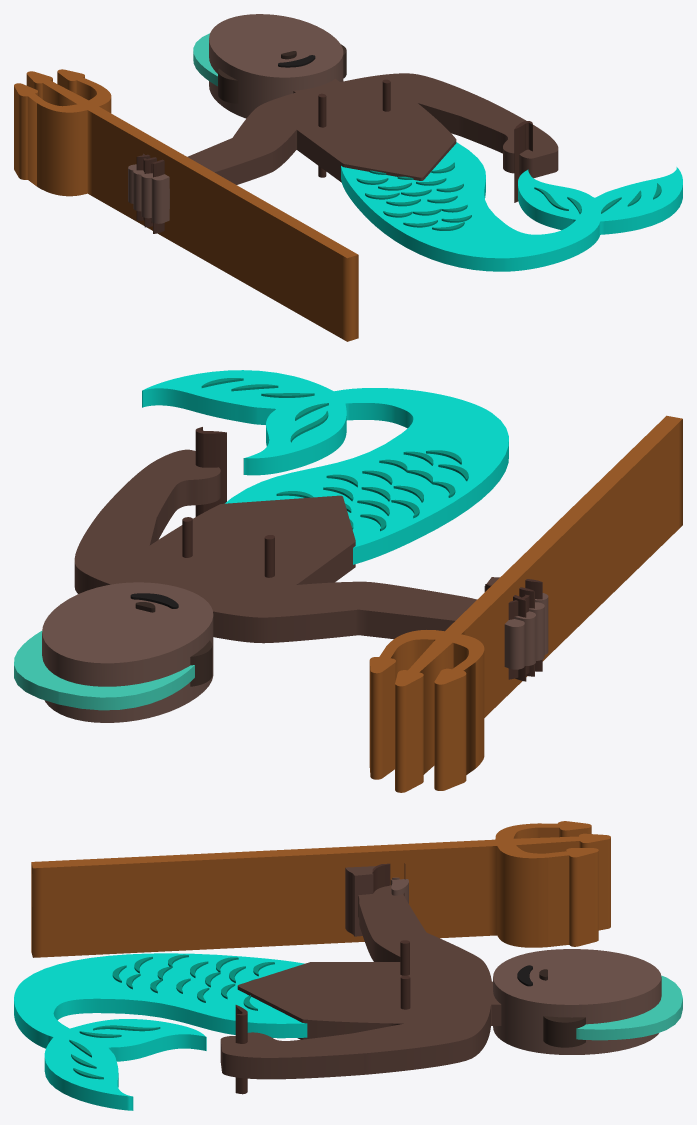
Rendered from emoji_u1f9dc_1f3ff_200d_2642.glb.
3 views of the same model, one above another, from view 1: azimuth 30°, elevation 25°; view 2: azimuth 150°, elevation 25°; view 3: azimuth 270°, elevation 25° (orthographic). The views are drawn at different scales.
Visible parts, largest first — view 1: emoji_u1f9dc_1f3ff_200d_2642; view 2: emoji_u1f9dc_1f3ff_200d_2642; view 3: emoji_u1f9dc_1f3ff_200d_2642.
Part boxes in pixels (x1=…): emoji_u1f9dc_1f3ff_200d_2642: x1=14, y1=14, x2=682, y2=341; emoji_u1f9dc_1f3ff_200d_2642: x1=14, y1=370, x2=682, y2=792; emoji_u1f9dc_1f3ff_200d_2642: x1=14, y1=821, x2=682, y2=1110.
Size of the model in its own units: 0.0285 by 0.005 by 0.0339.
